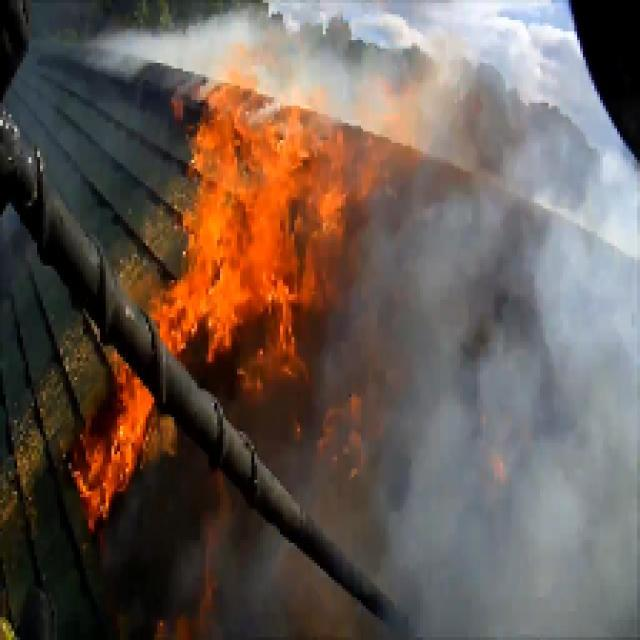Fire: (188, 92, 330, 368), (76, 365, 150, 518)
Smoke: (423, 183, 640, 640)
